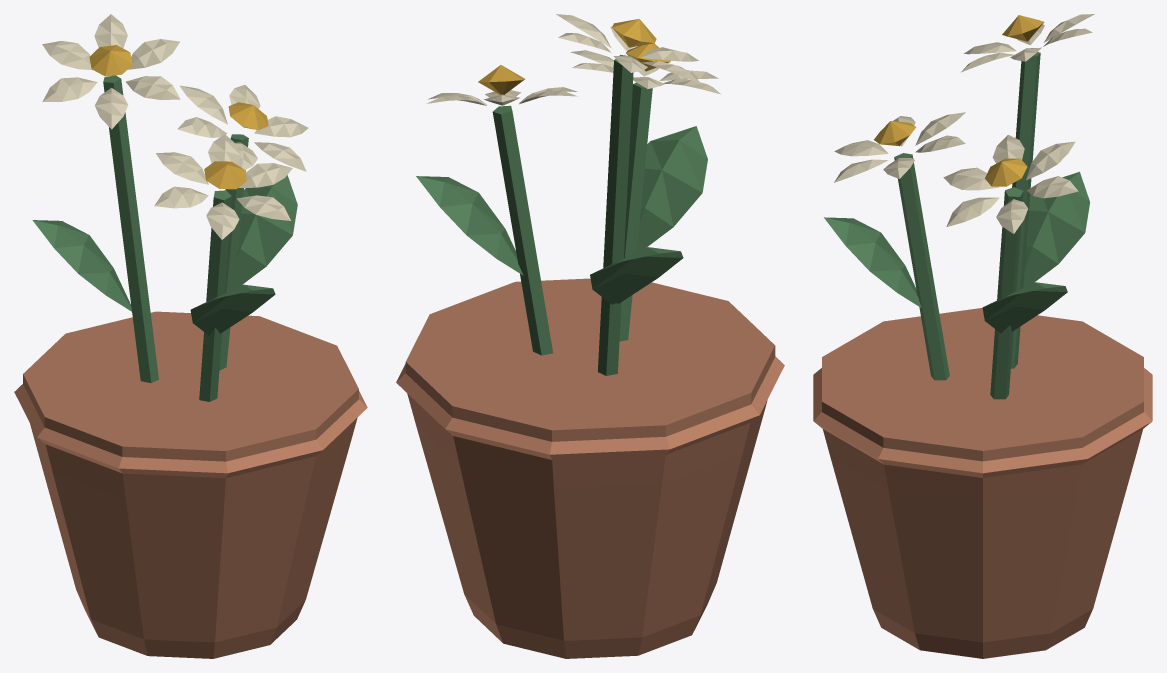
Rendered from flower_pot_a.glb.
The picture shows the model from 3 angles, left to right: view 1: azimuth 30°, elevation 25°; view 2: azimuth 150°, elevation 25°; view 3: azimuth 270°, elevation 25°; orthographic projection. The views are drawn at different scales.
Parts seen in each view (by area): view 1: geometry; view 2: geometry; view 3: geometry.
Part boxes in pixels (<box>): geometry: <box>14,14,367,658</box>; geometry: <box>396,14,784,658</box>; geometry: <box>813,14,1152,658</box>.
Size of the model in its own units: 0.4 by 0.7039 by 0.3804.
